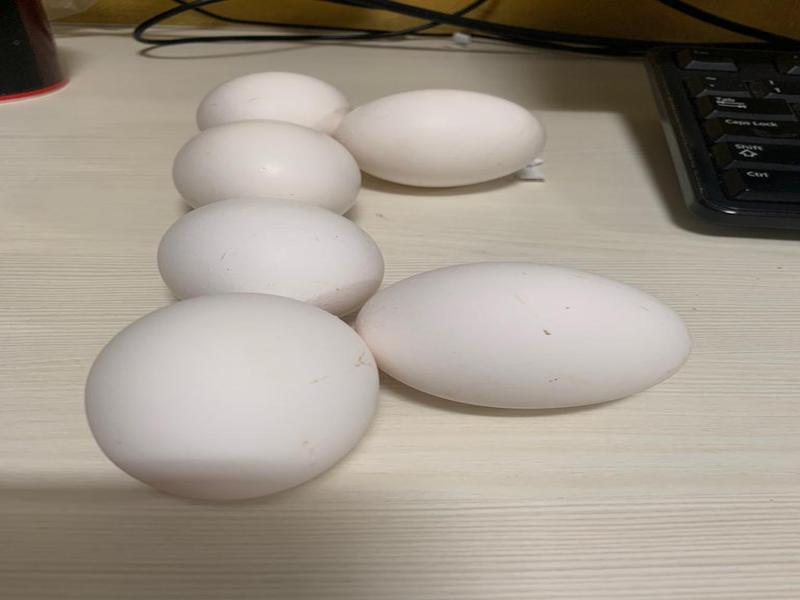egg: (85, 291, 379, 500)
